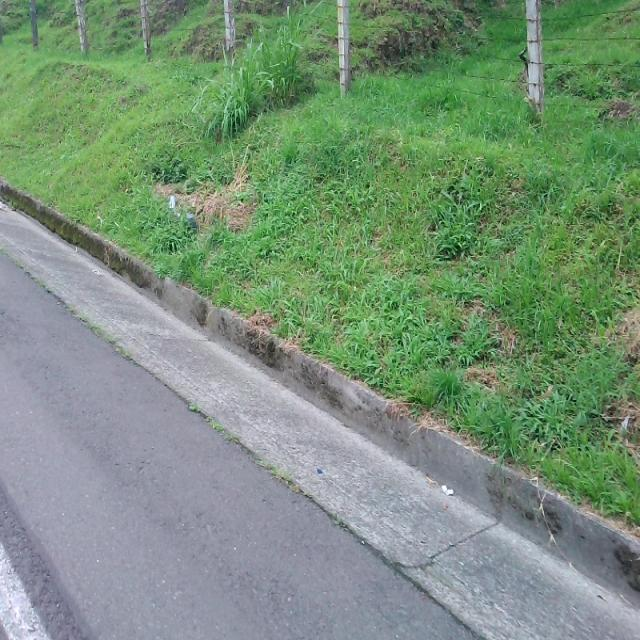DITCH: (1, 183, 639, 638)
